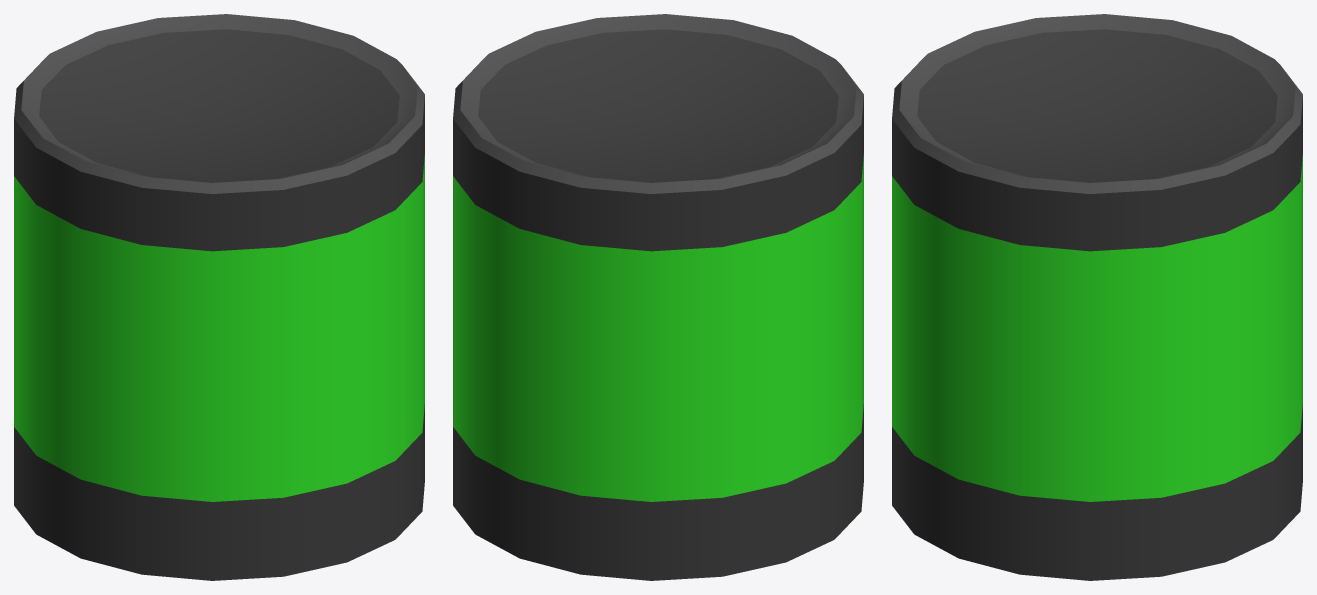
The model's file is Prop_Cleaner_Can.FBX.
3 renders of one model, left to right at view 1: azimuth 30°, elevation 25°; view 2: azimuth 150°, elevation 25°; view 3: azimuth 270°, elevation 25°, orthographic.
Parts seen in each view (by area): view 1: Cylinder006; view 2: Cylinder006; view 3: Cylinder006.
Part boxes in pixels (bbox=[...]): Cylinder006: bbox=[14, 14, 424, 580]; Cylinder006: bbox=[453, 14, 863, 580]; Cylinder006: bbox=[892, 14, 1302, 580].
Bounding box in the file's own units: 15.2 × 16.29 × 15.06.
